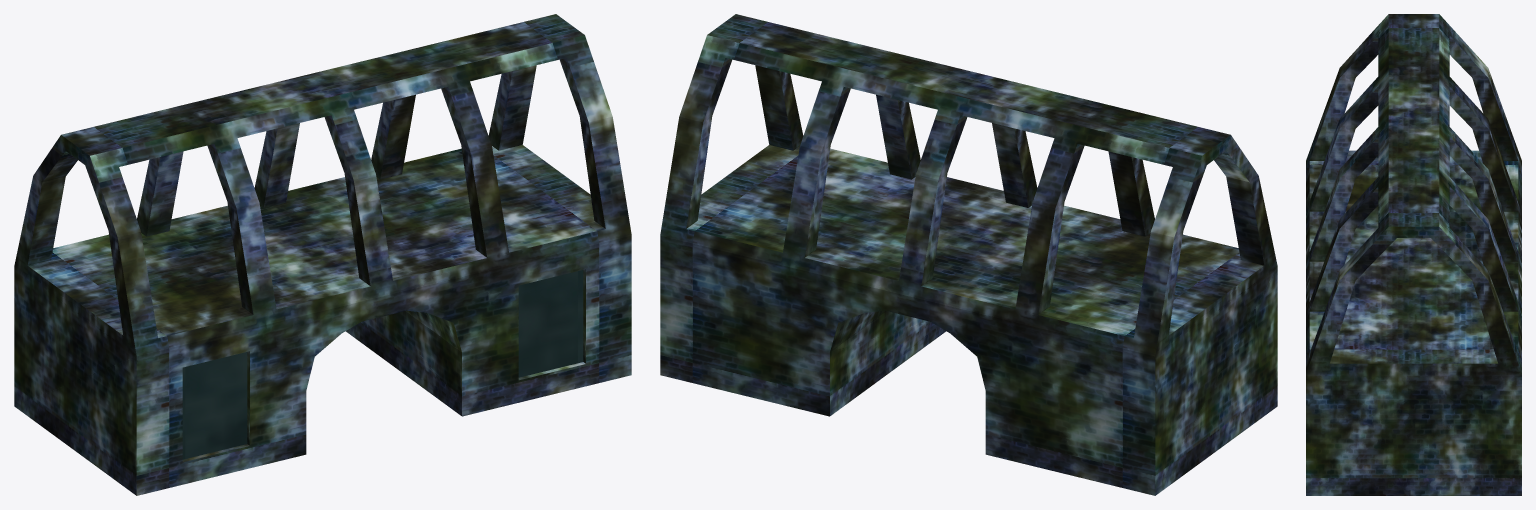
Rendered from build_with_arch.FBX.
3 views of the same model, side by side, from view 1: azimuth 30°, elevation 25°; view 2: azimuth 150°, elevation 25°; view 3: azimuth 270°, elevation 25° (orthographic). The views are drawn at different scales.
Parts seen in each view (by area): view 1: Box001; view 2: Box001; view 3: Box001.
Part boxes in pixels (x1,y1,x2,y2): Box001: (14, 14, 631, 495); Box001: (660, 14, 1277, 495); Box001: (1306, 14, 1521, 495).
Bounding box in the file's own units: 421 × 249 × 180.
